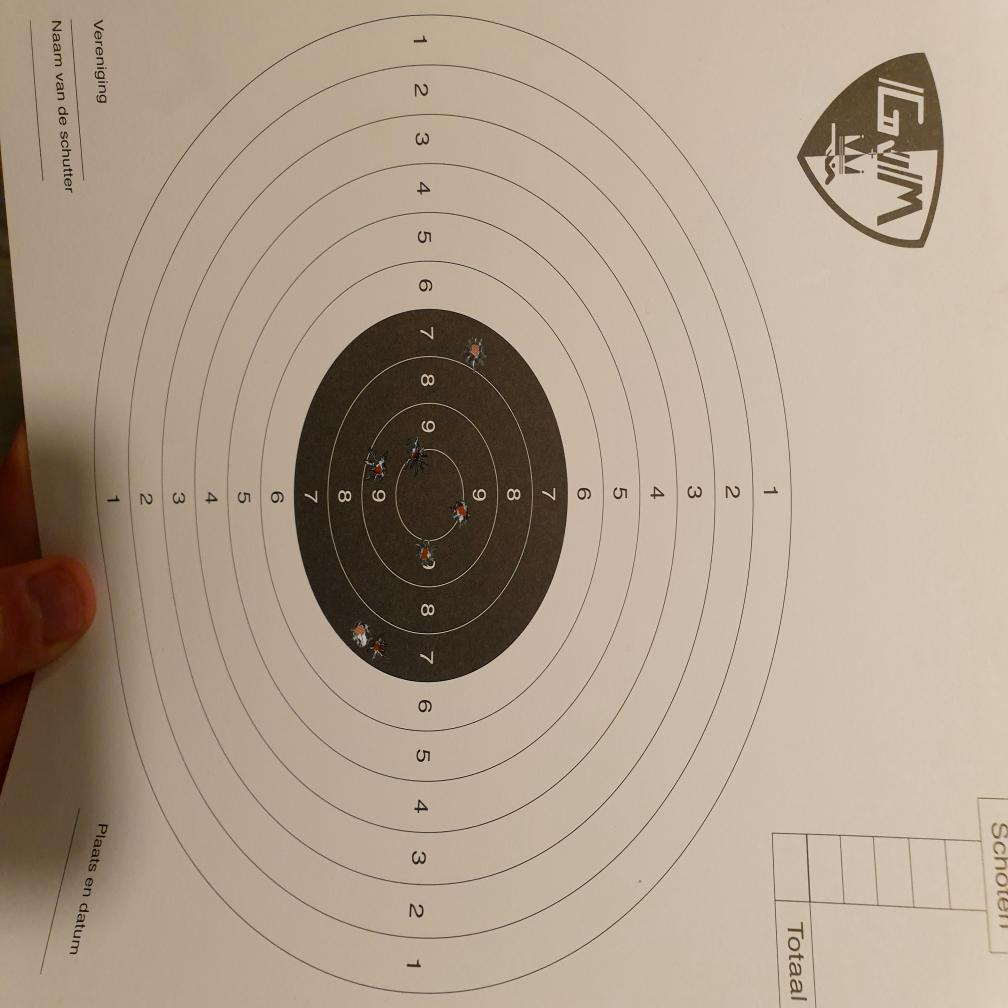10: (404, 437, 429, 477), (416, 539, 437, 568), (451, 499, 470, 528)
7: (367, 631, 391, 662), (352, 622, 370, 647)
8: (462, 338, 486, 374)
9: (364, 448, 387, 484)
Target: (95, 13, 793, 998)
black_contour: (295, 310, 568, 685)
